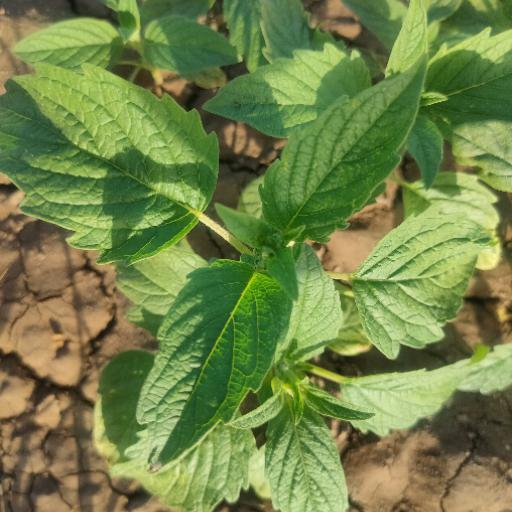crop: (8, 9, 508, 480)
